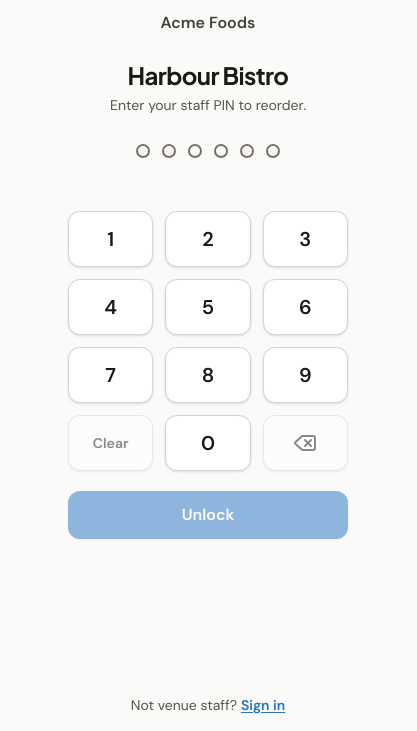
Test: QrEntryScreen — the PIN › tells a wrong PIN apart, clears the pad and does not enter
Expected: the heading "Harbour Bistro" is shown, x1=128 y1=59 x2=288 y2=91
Click the button "1": click(111, 239) x1=68 y1=211 x2=153 y2=267
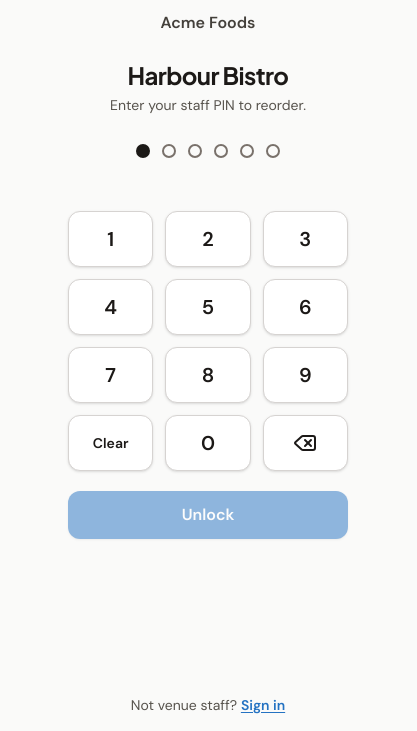
Click the button "3": click(305, 239) x1=263 y1=211 x2=348 y2=267
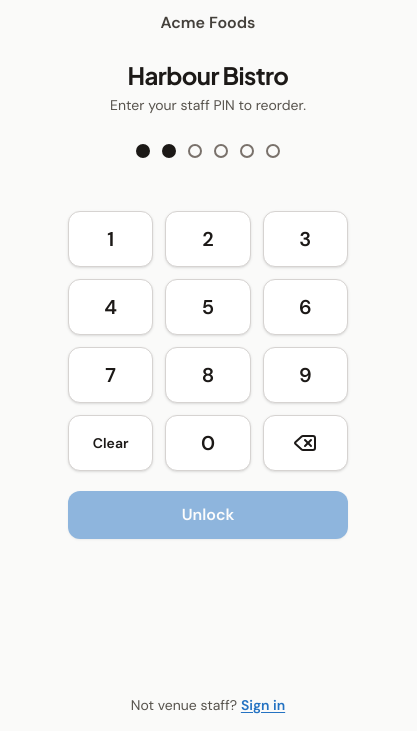
Click the button "5": click(208, 307) x1=165 y1=279 x2=251 y2=335
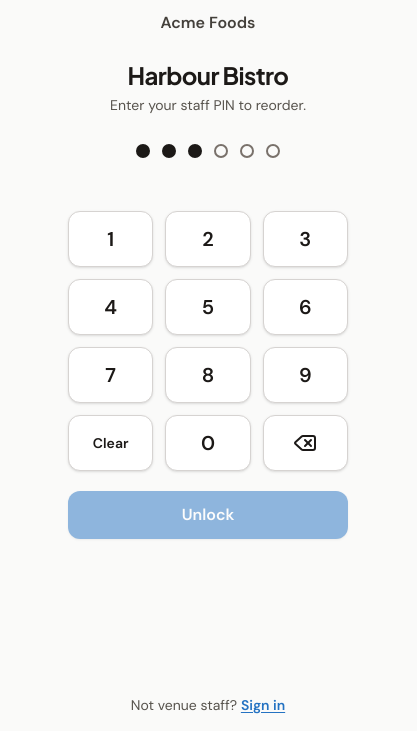
Click the button "7": click(111, 375) x1=68 y1=347 x2=153 y2=403
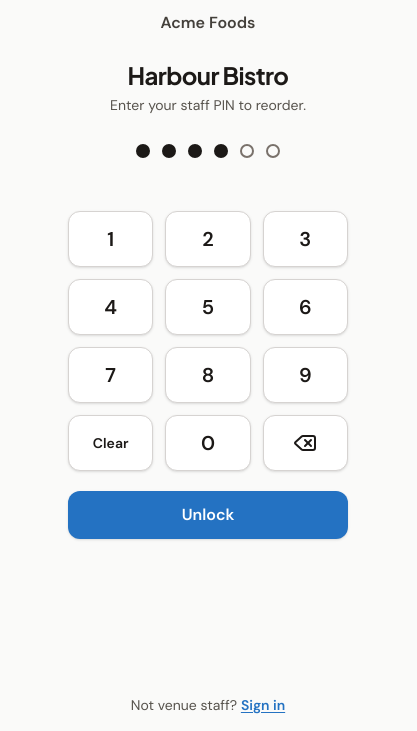
Click the button "Unlock": click(208, 515) x1=68 y1=491 x2=348 y2=539
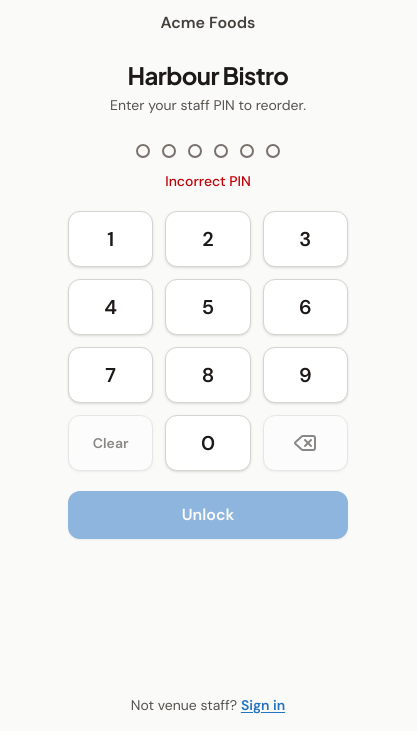
Expected: the form named "staff pin (4 to 6 digits)" is empty, x1=16 y1=139 x2=400 y2=539
Result: the text "Incorrect PIN" is shown at x1=165 y1=172 x2=251 y2=190
